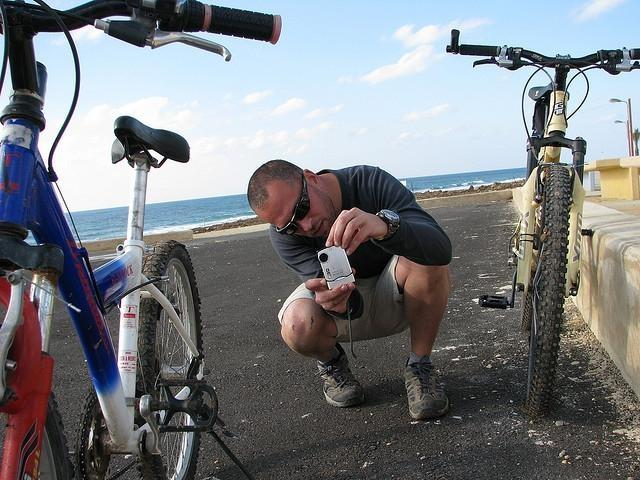bicycle: (0, 1, 281, 476), (443, 27, 640, 423)
